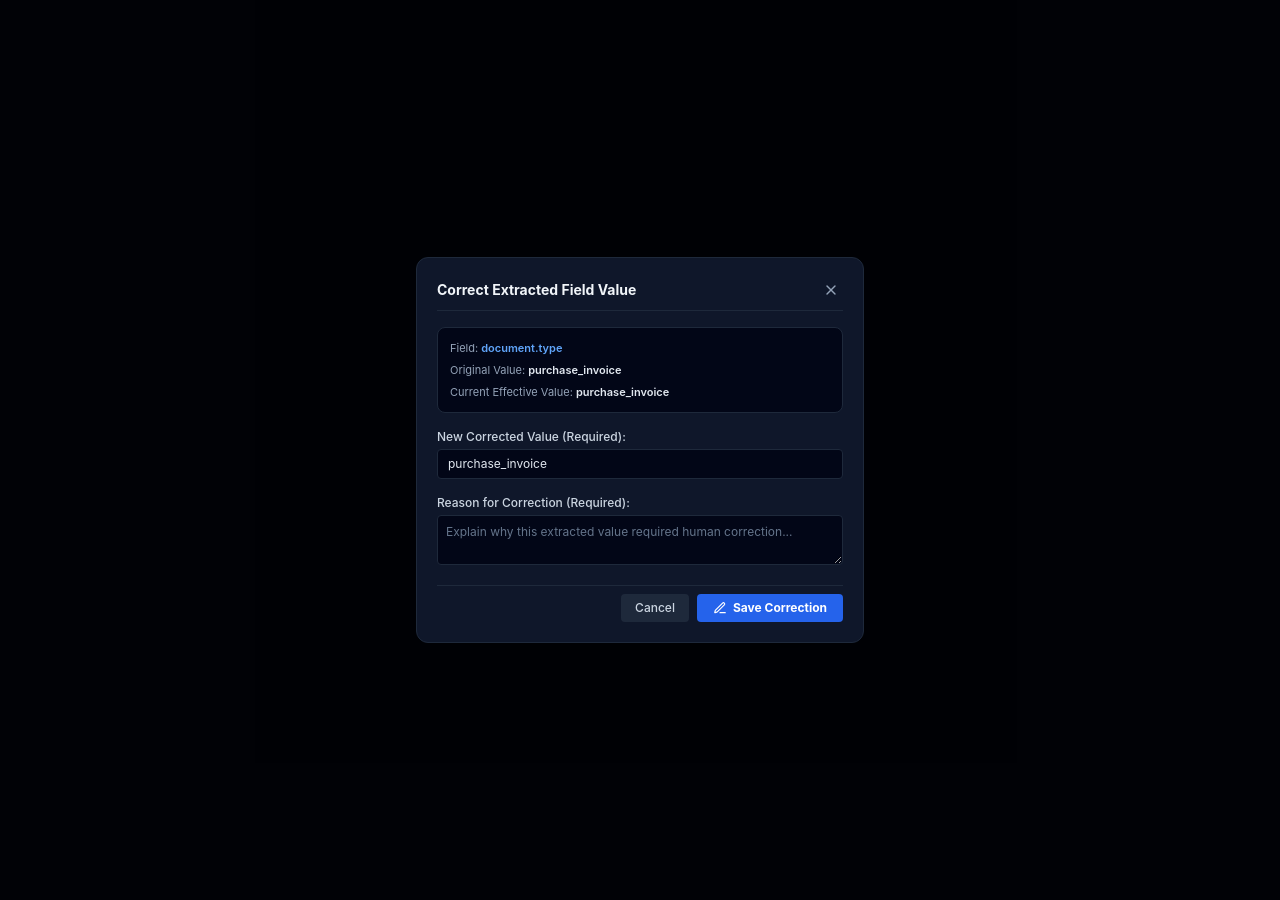
Test: Review Findings & Security Invariant Regressions › Stale Invariants & Approved Record Locking › supports approved_record_locked error message in error normalizer and correction dialog
Step 1. Replace the text in the text box labelled "Reason for Correction (Required):" with "Attempt modification on approved field" → x=640, y=540, box 437,515 -> 843,565
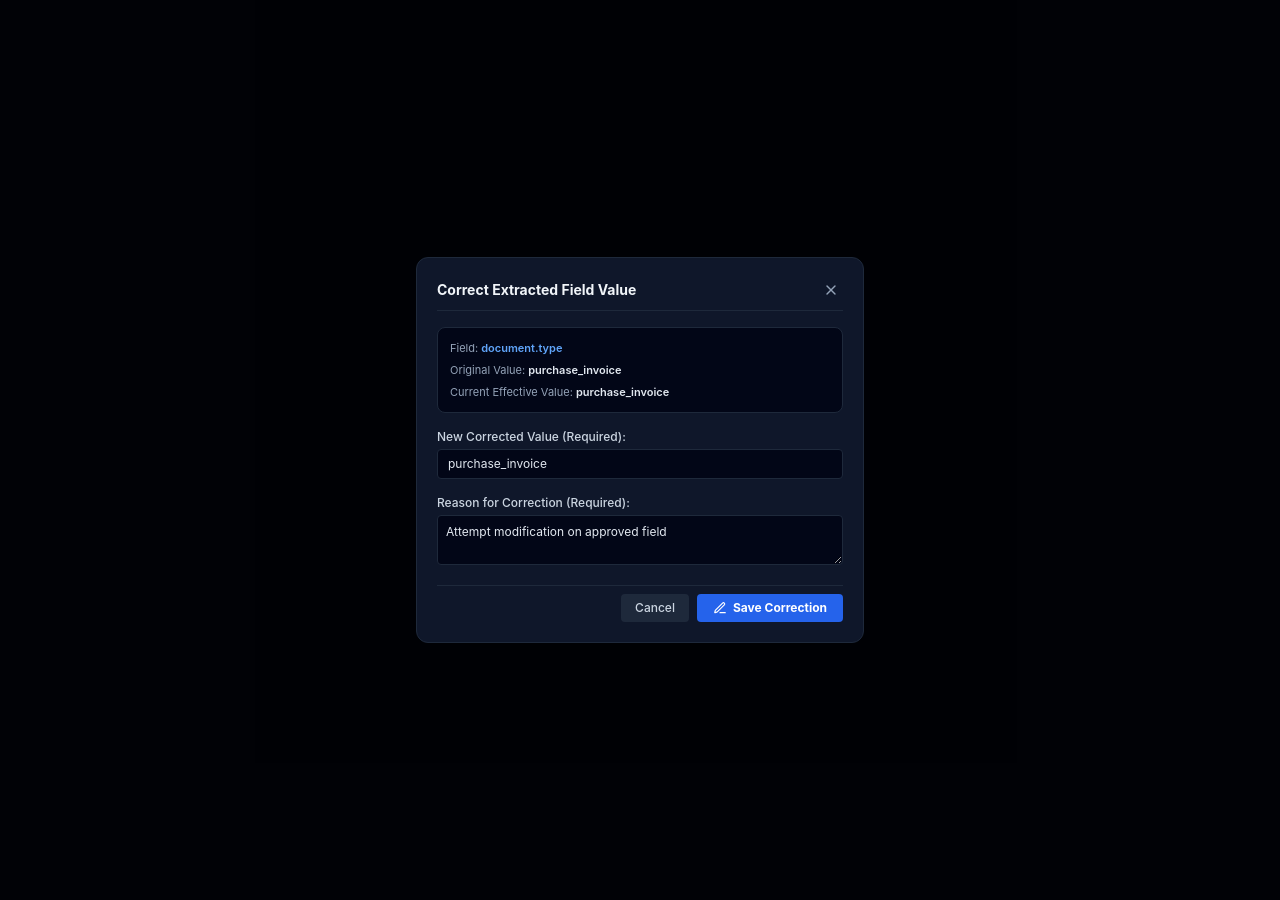
Step 2. Click the button "Save Correction" → x=770, y=608, box 697,594 -> 843,622
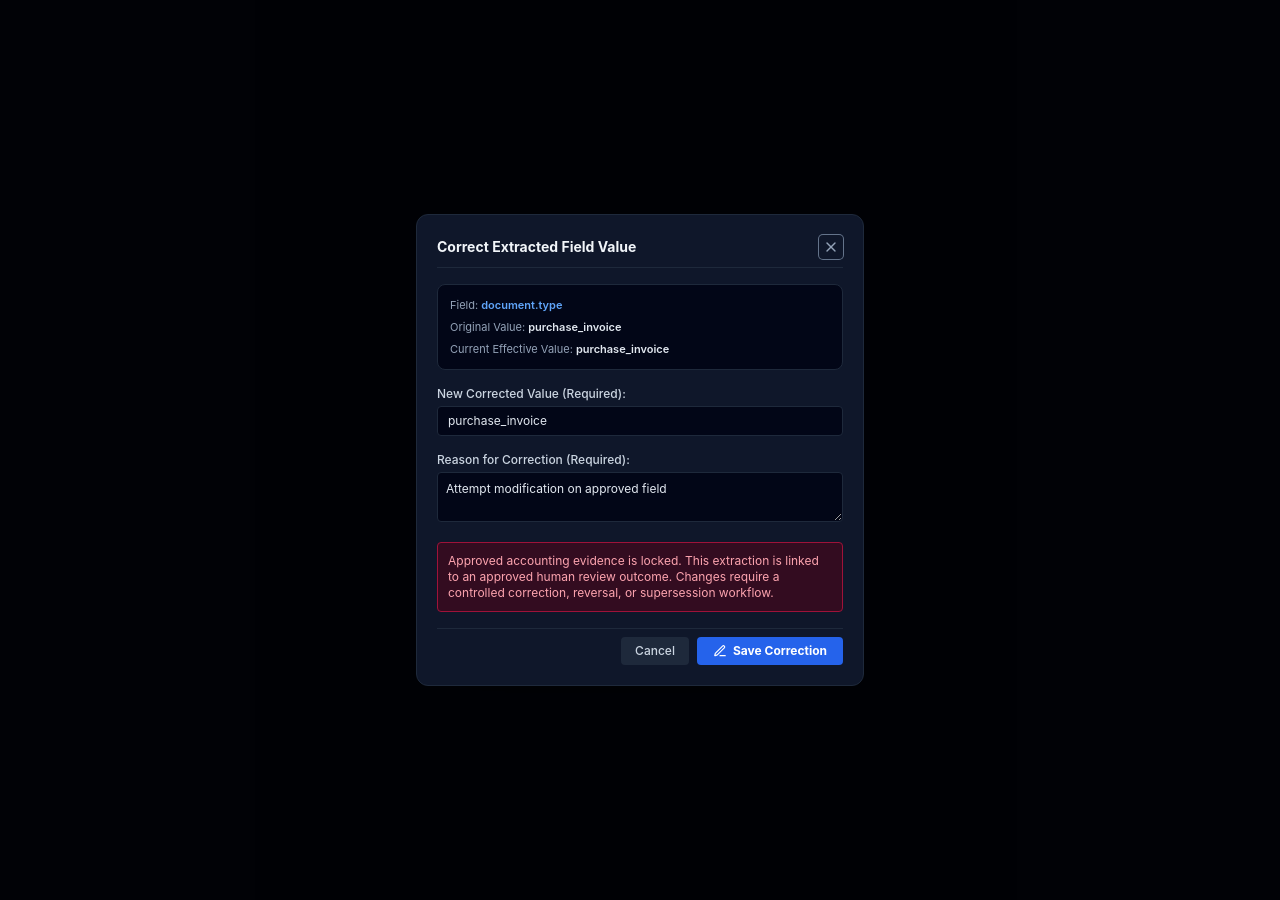
Expected: the text "Approved accounting evidence is locked" is shown, 448,553 -> 819,600
